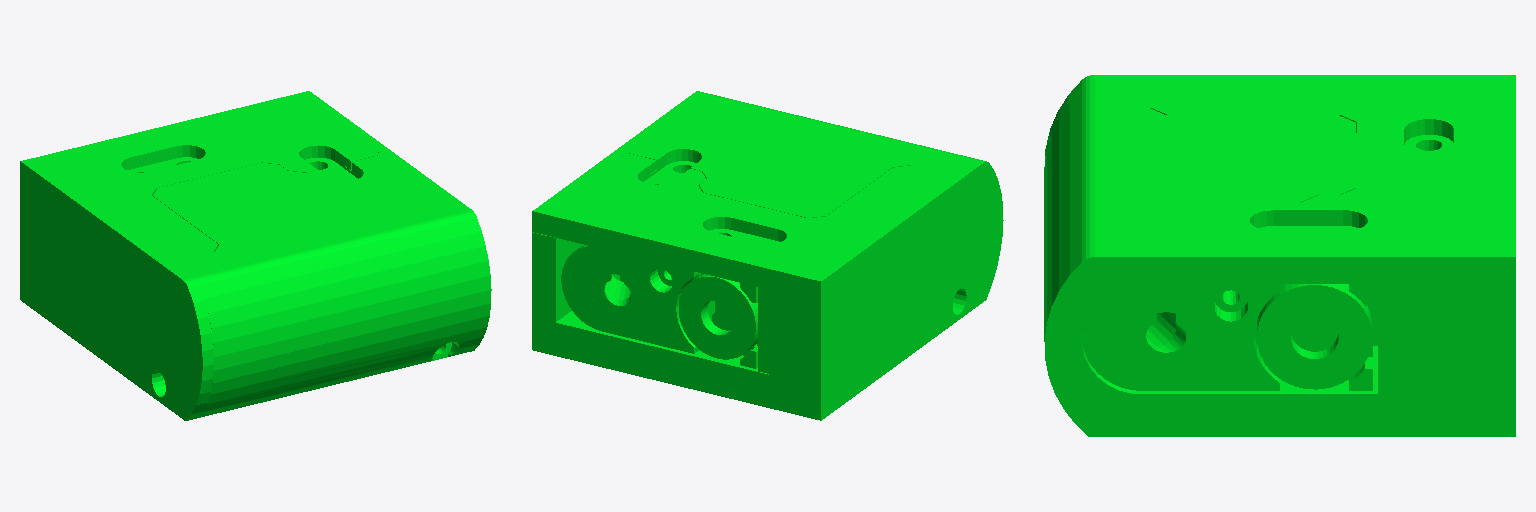
URDF robot description (original_sensor):
<?xml version="1.0"?>
<robot name="original_sensor">
  <link name="world">
    <visual>
      <origin rpy="0 0 0" xyz="-0.0294 -0.03361 1.8"/>
      <geometry>
        <mesh filename="package://display/urdf/sensor.STL" scale="0.001 0.001 0.001"/>
      </geometry>
      <material name="original_material">
        <color rgba="0.02 0.97 0.2 0.2"/>
      </material>
    </visual>
  </link>
</robot>

--- Facts derived from the render (not from the file) ---
The picture shows the robot from 3 angles, left to right: view 1: azimuth 30°, elevation 25°; view 2: azimuth 150°, elevation 25°; view 3: azimuth 270°, elevation 25°; orthographic projection.
Robot: original_sensor — 1 links, 0 joints (none); root link world; default pose: every joint at zero.
Visible links, largest first — view 1: world; view 2: world; view 3: world.
Link boxes in pixels (bbox=[...]): world: bbox=[20, 91, 491, 420]; world: bbox=[532, 91, 1003, 420]; world: bbox=[1044, 75, 1515, 436].
Size in the robot's own frame: 0.05 by 0.0547 by 0.023 metres.
1 mesh visuals loaded from 1 distinct referenced files (1 binary STL).